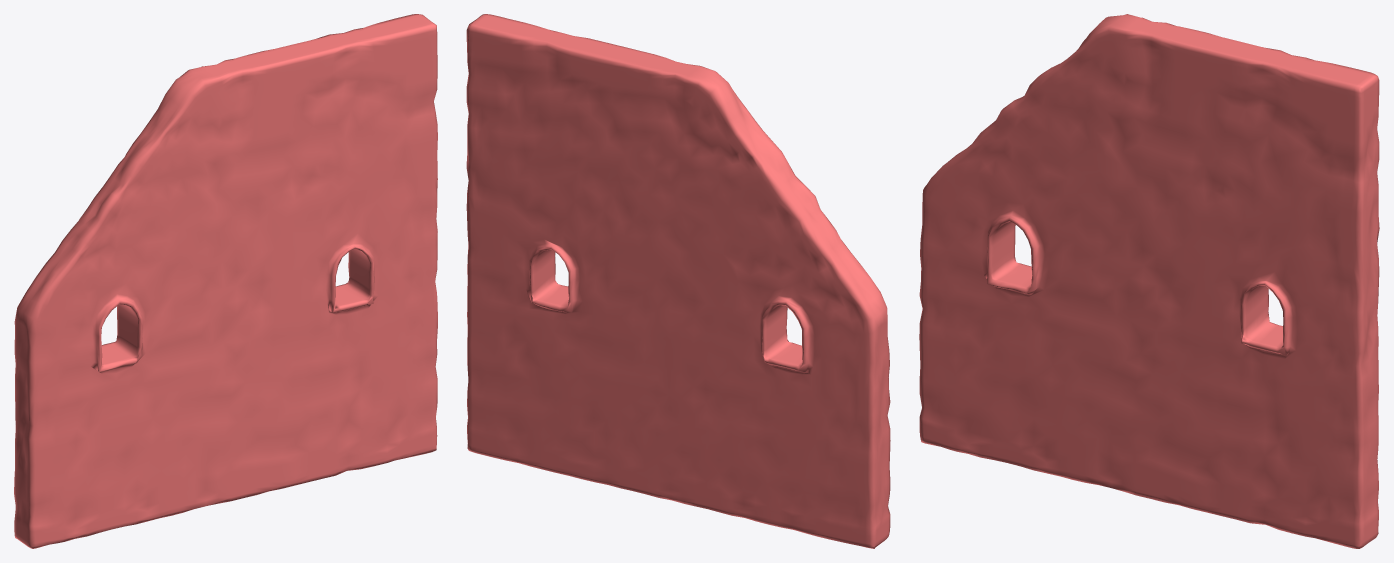
Rendered from wall01.fbx.
3 views of the same model, side by side, from view 1: azimuth 30°, elevation 25°; view 2: azimuth 150°, elevation 25°; view 3: azimuth 330°, elevation 25° (orthographic). The views are drawn at different scales.
Visible parts, largest first — view 1: pCube16; view 2: pCube16; view 3: pCube16.
Part boxes in pixels (bbox=[...]): pCube16: bbox=[14, 14, 437, 548]; pCube16: bbox=[466, 14, 890, 548]; pCube16: bbox=[919, 14, 1379, 548].
Size of the model in its own units: 4 by 4 by 0.4035.
